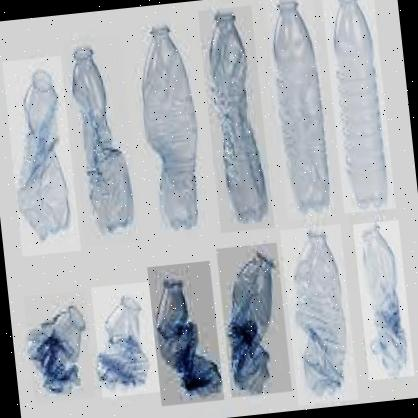bottle: (197, 5, 274, 233), (130, 16, 208, 238), (64, 35, 142, 247), (263, 0, 335, 221), (321, 0, 395, 213), (2, 56, 80, 256), (278, 224, 358, 405), (216, 242, 292, 397), (147, 260, 224, 406), (352, 219, 414, 380), (23, 290, 95, 404), (90, 281, 160, 398)
